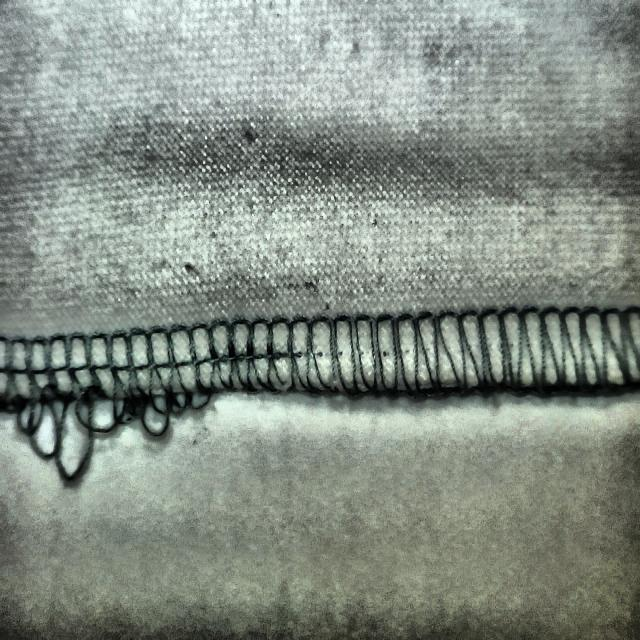gray stitch: (1, 322, 210, 482)
